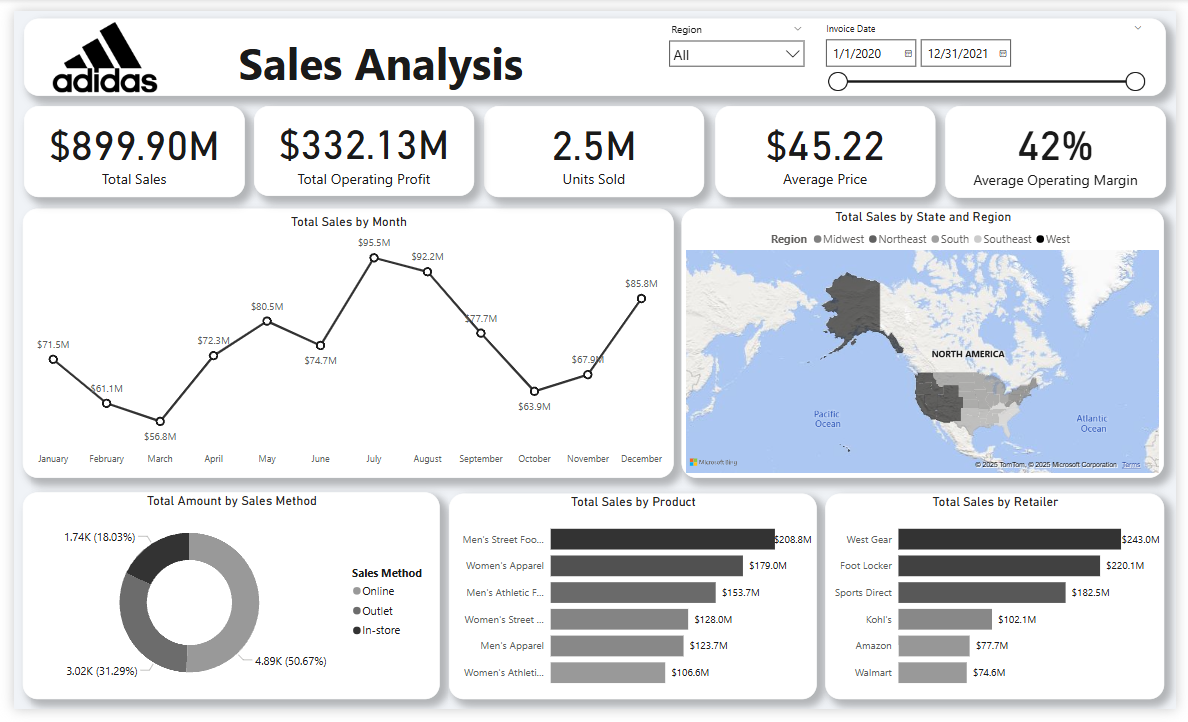

The page's visual inventory and layout, read from the dashboard file:
{"tool":"powerbi","page":{"name":"Page 1","canvas":[1550,930],"ordinal":0},"visuals":[{"type":"group","id":"g1","title":"Group 1","box":[12.7,9.5,1522.2,103.2],"z":0},{"type":"textbox","box":[12.7,9.5,1522.2,103.2],"z":1000,"group":"g1"},{"type":"areaChart","title":"Total Sales by Month","fields":{"Category":["Data Sales Adidas.Invoice Date.Variation.Date Hierarchy.Month"],"Y":["Sum(Data Sales Adidas.Total Sales)"]},"box":[11,263.2,868.4,359.3],"z":1000},{"type":"card","fields":{"Values":["Sum(Data Sales Adidas.Total Sales)"]},"box":[12.7,126.6,294.3,121.5],"z":2000},{"type":"donutChart","title":"Total Amount by Sales Method","fields":{"Category":["Data Sales Adidas.Sales Method"],"Y":["CountNonNull(Data Sales Adidas.Total Sales)"]},"box":[11,641.4,556.3,275.8],"z":3000},{"type":"card","fields":{"Values":["Sum(Data Sales Adidas.Units Sold)"]},"box":[627.2,126.5,293.8,121.7],"z":4000},{"type":"clusteredBarChart","title":"Total Sales by Product","fields":{"Category":["Data Sales Adidas.Product"],"Y":["Sum(Data Sales Adidas.Total Sales)"]},"box":[580,643,490.1,274.2],"z":5000},{"type":"card","fields":{"Values":["Avg(Data Sales Adidas.Price Per Unit)"]},"box":[934.3,126.5,293.8,121.7],"z":6000},{"type":"clusteredBarChart","title":"Total Sales by Retailer","fields":{"Category":["Data Sales Adidas.Retailer"],"Y":["Sum(Data Sales Adidas.Total Sales)"]},"box":[1081.1,643,452.3,274.2],"z":7000},{"type":"filledMap","fields":{"Category":["Data Sales Adidas.State"],"Series":["Data Sales Adidas.Region"]},"box":[890.4,263.2,643,359.3],"z":8000},{"type":"image","box":[12.7,9.5,215.8,103.2],"z":9000},{"type":"card","fields":{"Values":["Sum(Data Sales Adidas.Operating Profit)"]},"box":[320.1,126.5,293.8,120.1],"z":10000},{"type":"card","fields":{"Values":["Avg(Data Sales Adidas.Operating Margin)"]},"box":[1242,126.6,294.6,122.2],"z":11000},{"type":"slicer","fields":{"Values":["Data Sales Adidas.Invoice Date"]},"box":[1070.1,9.5,446,102.4],"z":12000},{"type":"slicer","fields":{"Values":["Data Sales Adidas.Region"]},"box":[863.6,9.5,200.2,102.4],"z":13000}]}

Visuals, with their boxes in screenshot pixels (x1, y1, x2, y2), scaled from the page's 1550x930 canvas onto the 1188x722 screenshot:
"Group 1" group: box=[10, 7, 1176, 87]
textbox: box=[10, 7, 1176, 87]
"Total Sales by Month" areaChart: box=[8, 204, 674, 483]
card - Sum(Data Sales Adidas.Total Sales): box=[10, 98, 235, 193]
"Total Amount by Sales Method" donutChart: box=[8, 498, 435, 712]
card - Sum(Data Sales Adidas.Units Sold): box=[481, 98, 706, 193]
"Total Sales by Product" clusteredBarChart: box=[445, 499, 820, 712]
card - Avg(Data Sales Adidas.Price Per Unit): box=[716, 98, 941, 193]
"Total Sales by Retailer" clusteredBarChart: box=[829, 499, 1175, 712]
filledMap - Data Sales Adidas.State x Data Sales Adidas.Region: box=[682, 204, 1175, 483]
image: box=[10, 7, 175, 87]
card - Sum(Data Sales Adidas.Operating Profit): box=[245, 98, 471, 191]
card - Avg(Data Sales Adidas.Operating Margin): box=[952, 98, 1178, 193]
slicer - Data Sales Adidas.Invoice Date: box=[820, 7, 1162, 87]
slicer - Data Sales Adidas.Region: box=[662, 7, 815, 87]
